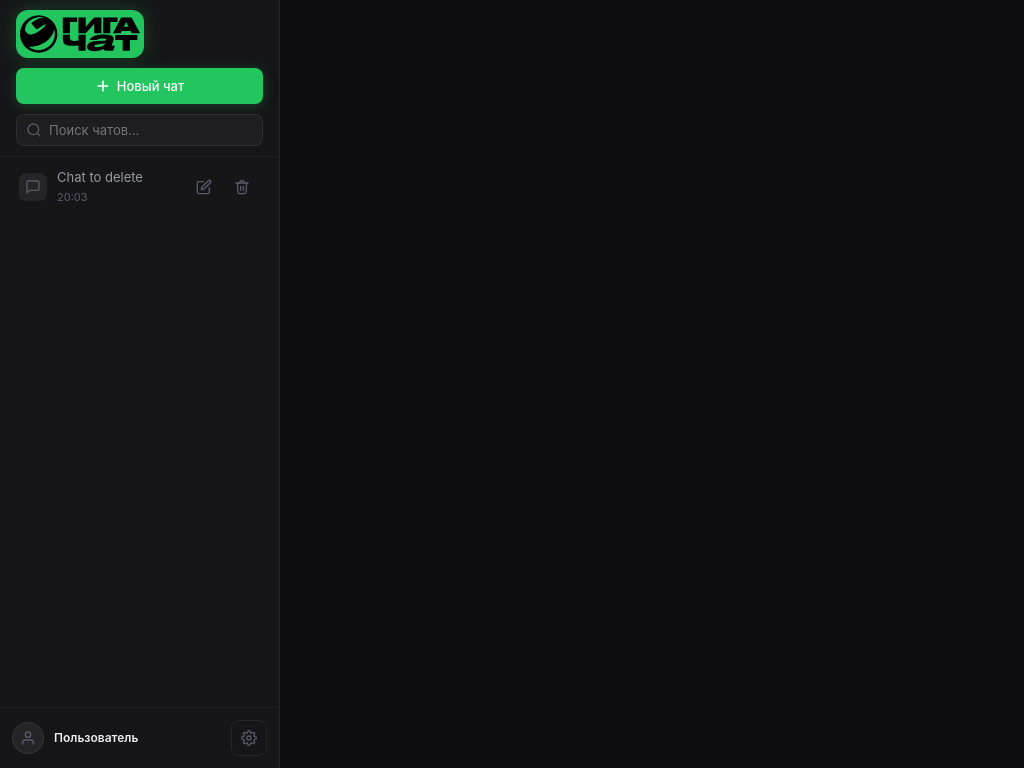
Scenario: Sidebar — удаление › показывается диалоговое окно подтверждения удаления при нажатии кнопки Удалить
Click the button titled "Удалить" at (242, 187), box [224,169,260,205]
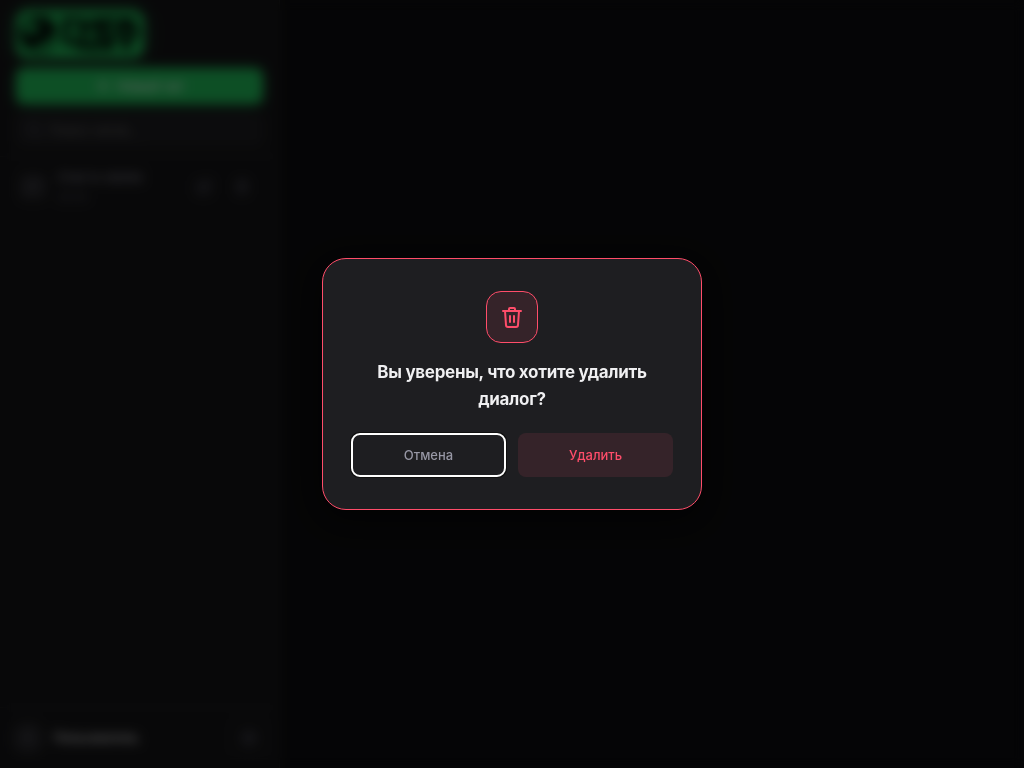
expect the dialog is shown: met
expect the heading "Вы уверены, что хотите удалить диалог?" is shown: met, box [377,362,647,409]
